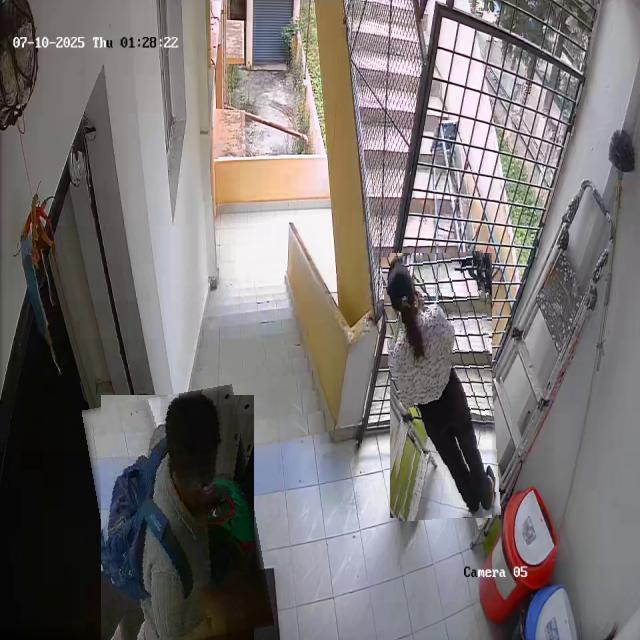person: (91, 389, 264, 640), (386, 252, 496, 520)
